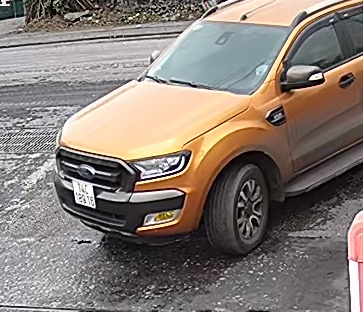vehicle plate: (67, 178, 100, 208)
